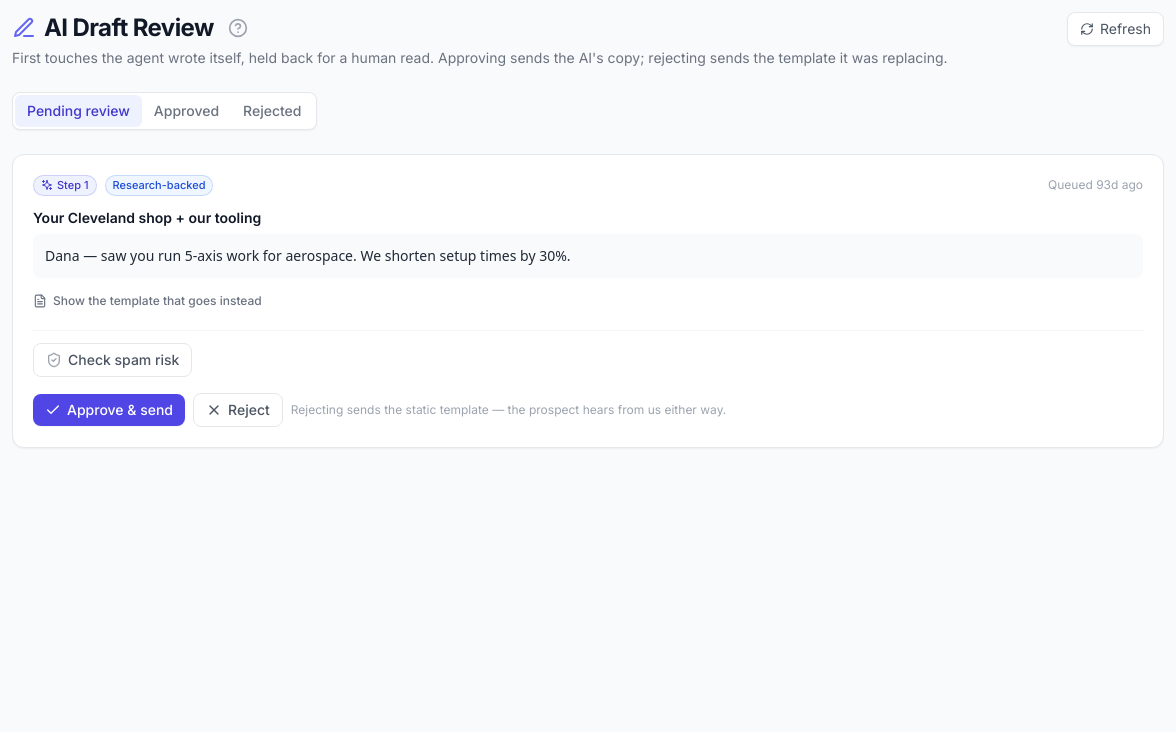
Test: AiDrafts page › says a clean draft is clean rather than showing an empty result
Check: the text "Your Cleveland shop + our tooling" is shown, box [33,208,261,226]
Step 1. Click the button "Check spam risk" → [113, 360], box [33,342,192,376]
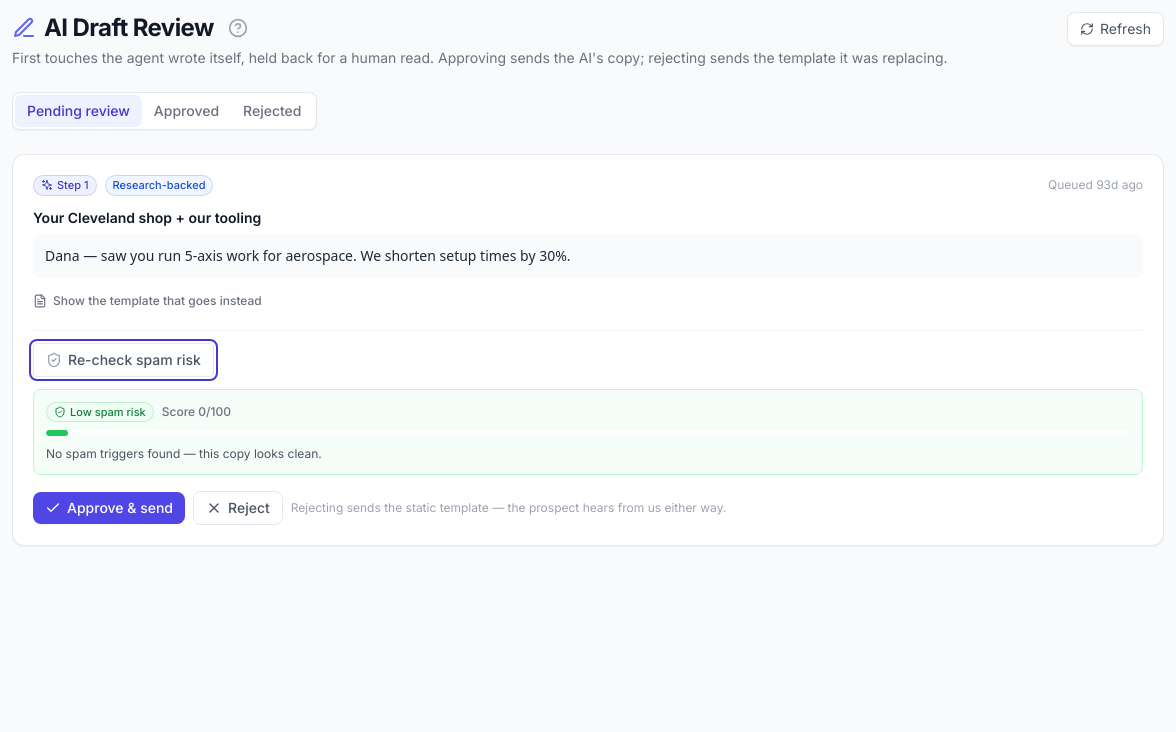
Check: the text "Low spam risk" is shown, box [46,402,154,422]
Check: the text "No spam triggers found — this copy looks clean." is shown, box [46,446,322,461]
